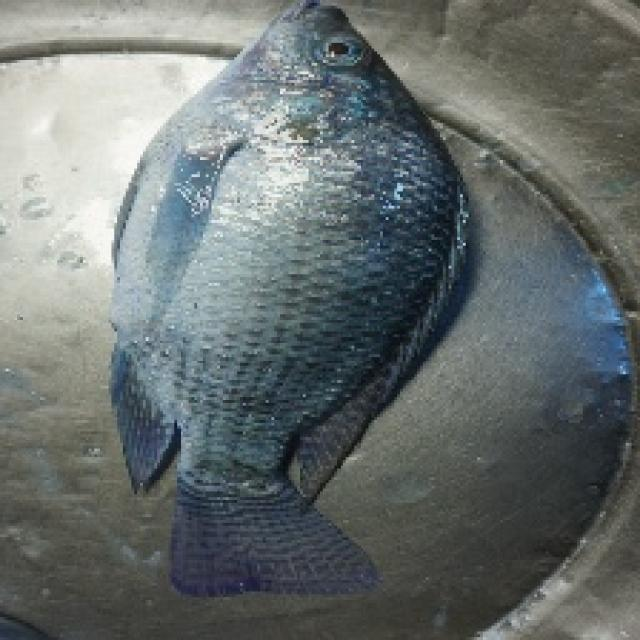Fresh: (114, 0, 488, 457)
